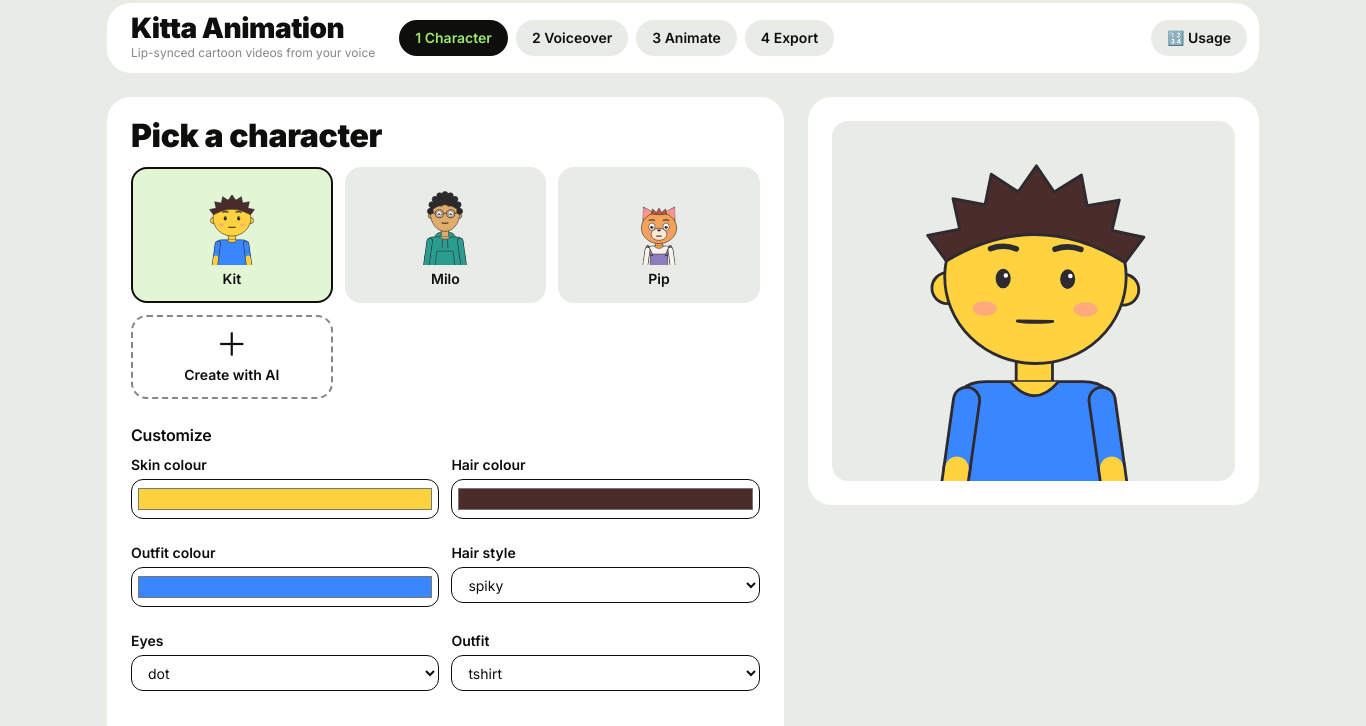
Test: enables creation with only an OpenAI key
Click the button "＋ Create with AI". click: (232, 357)
box: [131,315,333,399]
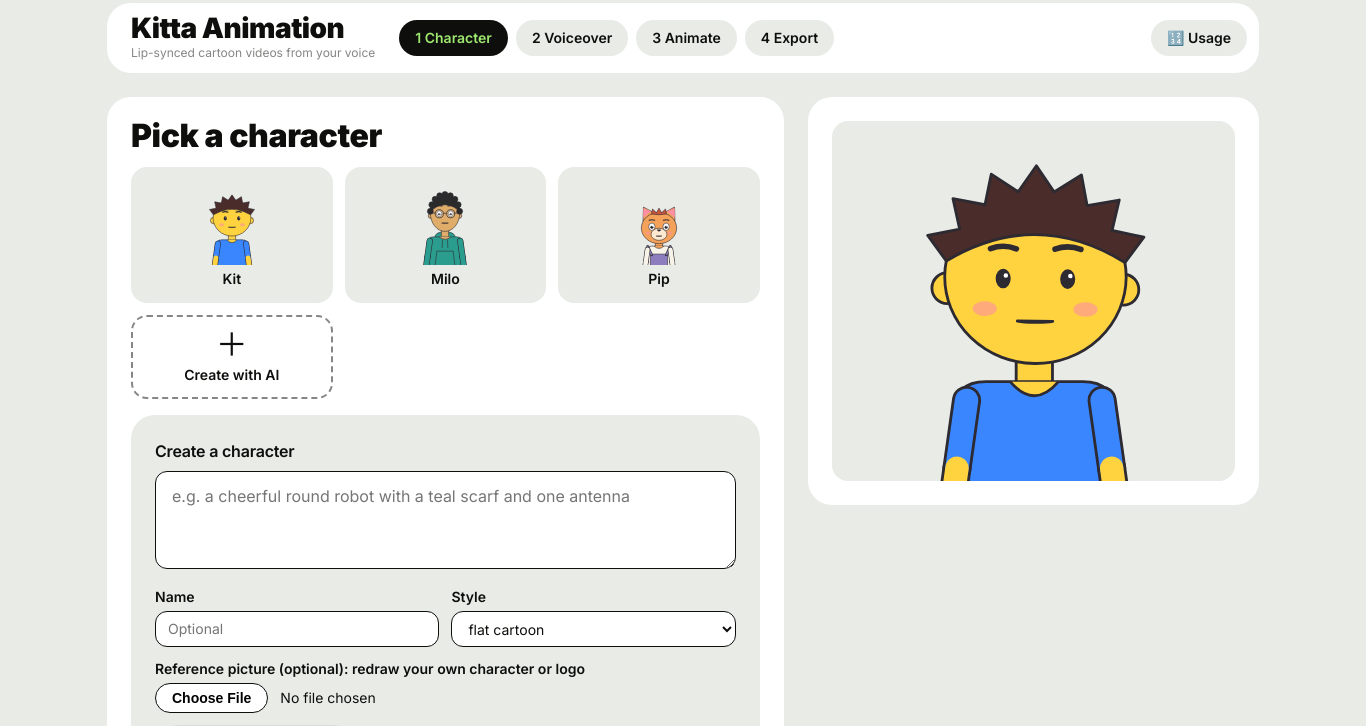
Replace the text in the text box named "Describe your character" with "a robot". click: (445, 520)
box: [155,471,736,569]
(page scrolled)
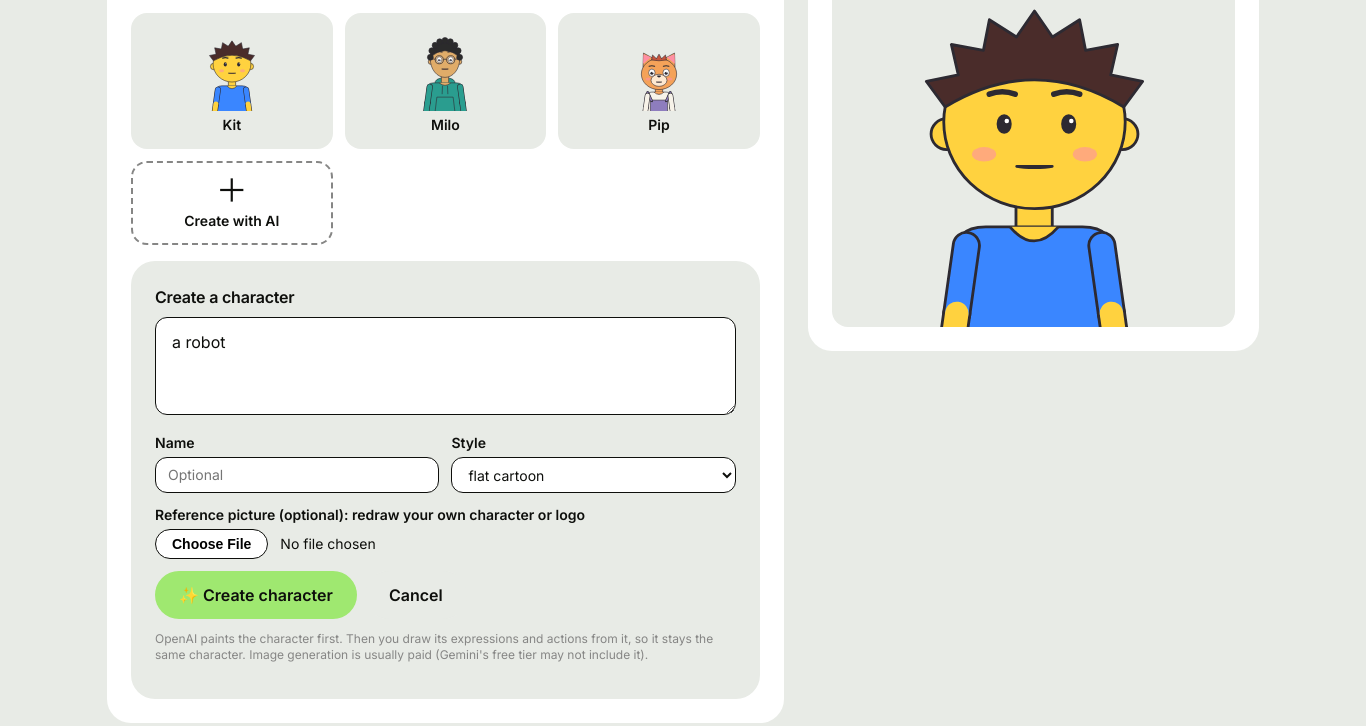
Expected: the button "✨ Create character" is enabled, [155,571,357,619]
